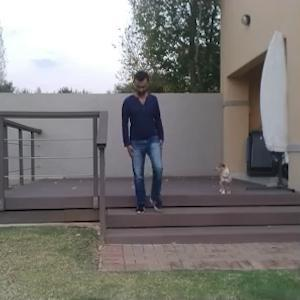follow: (123, 65, 163, 224)
